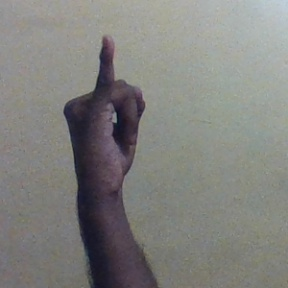I: (62, 34, 149, 188)
